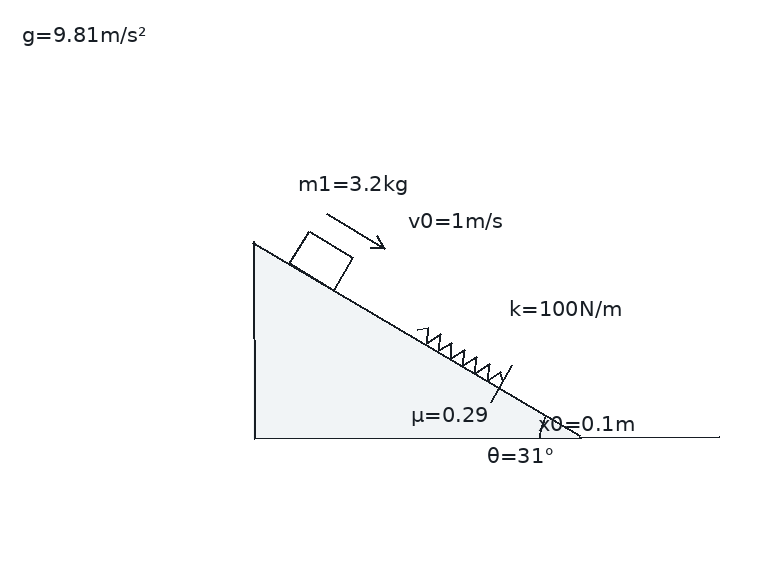block: (287, 229, 354, 292)
ramp: (251, 240, 582, 440)
spring: (416, 326, 505, 383)
